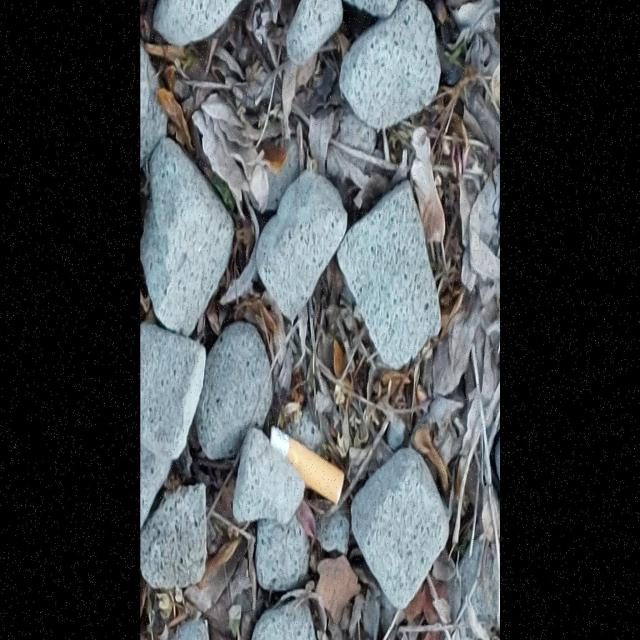other waste: (270, 424, 345, 507)
